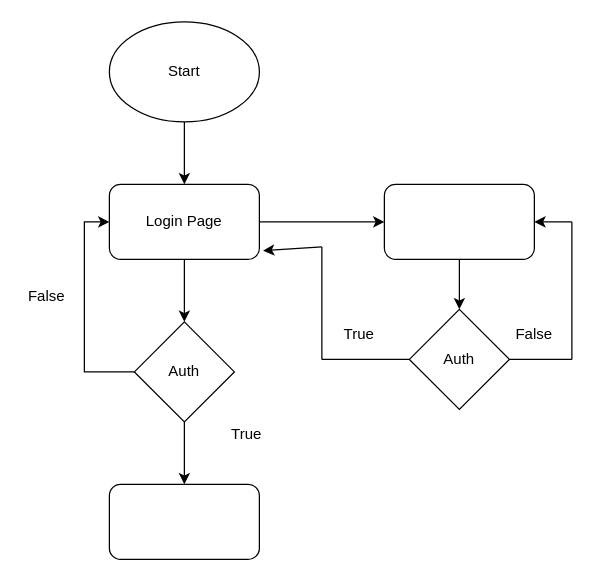
Image size: 604x581. Some labels were removed from this diagram. The shapes that lost their labels are listed below. From the top down, each one's box as (x1, y1, x2, y2) in pixels, then its label:
(383, 183, 534, 259): Register Pages
(108, 483, 259, 559): Main Page
